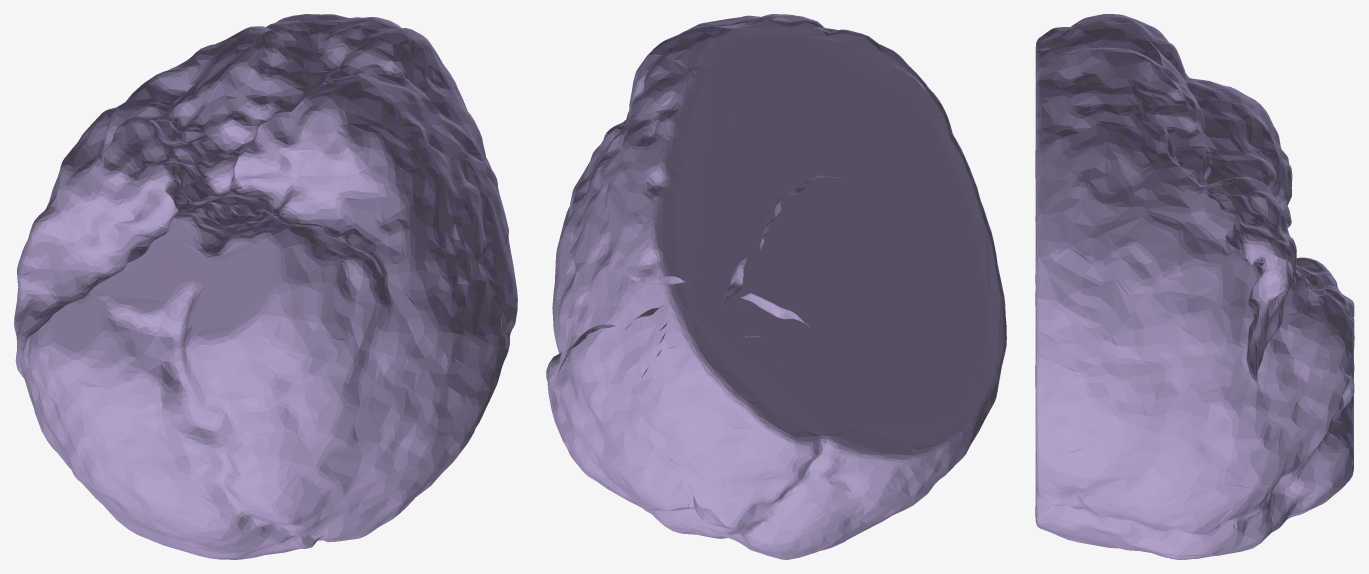
File: brain.glb
The picture shows the model from 3 angles, left to right: view 1: azimuth 30°, elevation 25°; view 2: azimuth 150°, elevation 25°; view 3: azimuth 270°, elevation 25°; orthographic projection. The views are drawn at different scales.
Parts seen in each view (by area): view 1: world; view 2: world; view 3: world.
Part boxes in pixels (box(x1,y1,x2,y2)): world: box(14, 14, 517, 559); world: box(546, 14, 1006, 559); world: box(1035, 14, 1354, 559).
Size of the model in its own units: 144 by 173 by 99.39.
